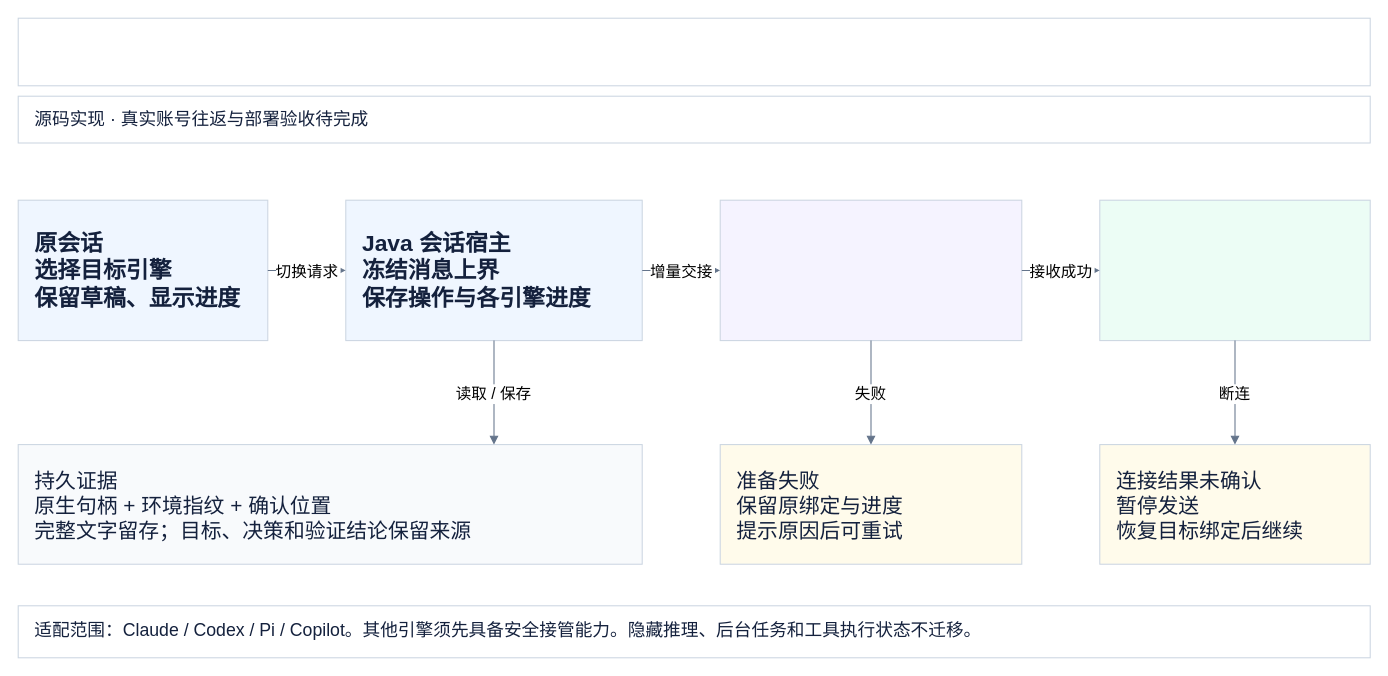
This 1388x676 diagram has some shape labels left out. The centre of each missing label's shape, as x and y in pixels:
Sidecar → 原生引擎 恢复句柄、受限接收历史 核对成功终态与确认标识: (870,270)
原窗口继续工作，目标确认后才完成切换: (693,51)
确认运行连接 持久绑定目标 放行后续消息: (1234,270)
